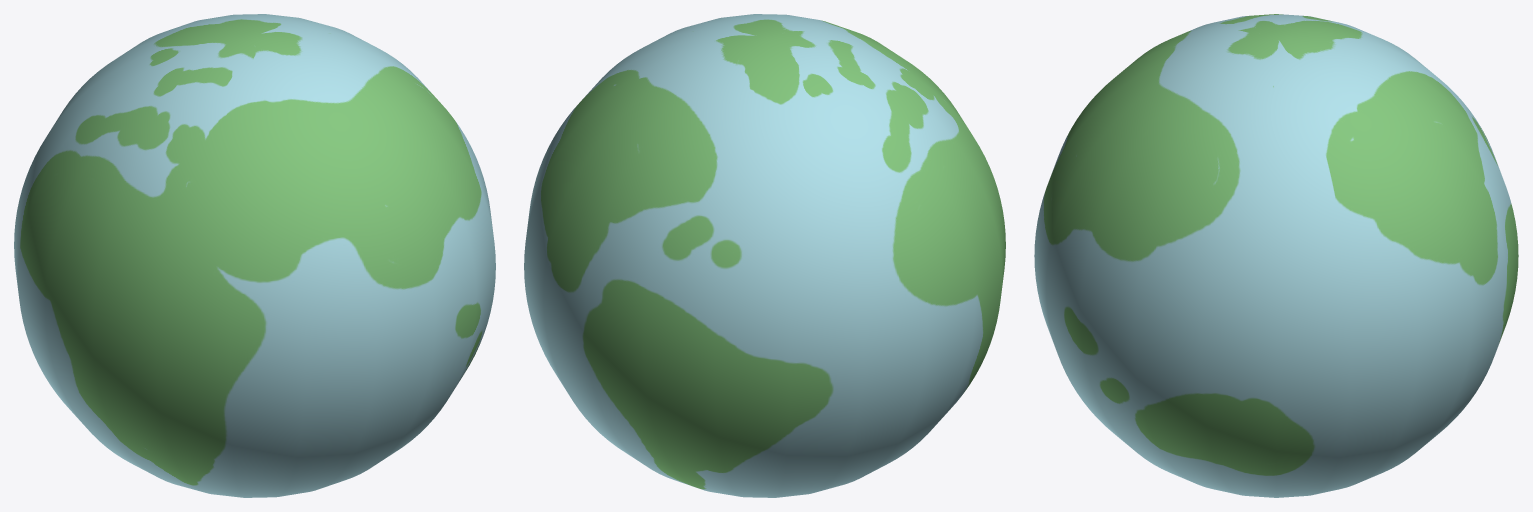
Rendered from mundo 5.fbx.
3 renders of one model, left to right at view 1: azimuth 30°, elevation 25°; view 2: azimuth 150°, elevation 25°; view 3: azimuth 270°, elevation 25°, orthographic.
Parts seen in each view (by area): view 1: earth; view 2: earth; view 3: earth.
Part boxes in pixels (x1,y1,x2,y2): earth: (14, 14, 495, 497); earth: (524, 14, 1005, 497); earth: (1034, 14, 1518, 497).
Bounding box in the file's own units: 40 × 40 × 40.
Materials: 1 (1 with a texture image).
